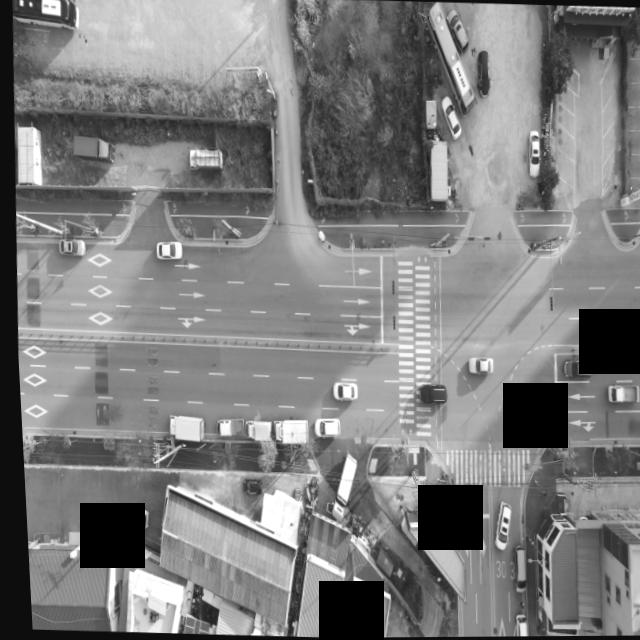car: (506, 546, 525, 595), (438, 94, 459, 137), (521, 388, 551, 411), (491, 503, 506, 549), (413, 383, 443, 405), (558, 356, 588, 378), (526, 129, 540, 174), (114, 505, 142, 527), (309, 416, 336, 437), (152, 237, 178, 258), (327, 379, 352, 400), (54, 236, 81, 255), (463, 354, 488, 373), (507, 614, 519, 637)
large_bus: (420, 6, 478, 114), (10, 0, 78, 31), (162, 411, 201, 441)
medium_truck: (329, 453, 357, 507)
small_truck: (601, 378, 637, 404)
